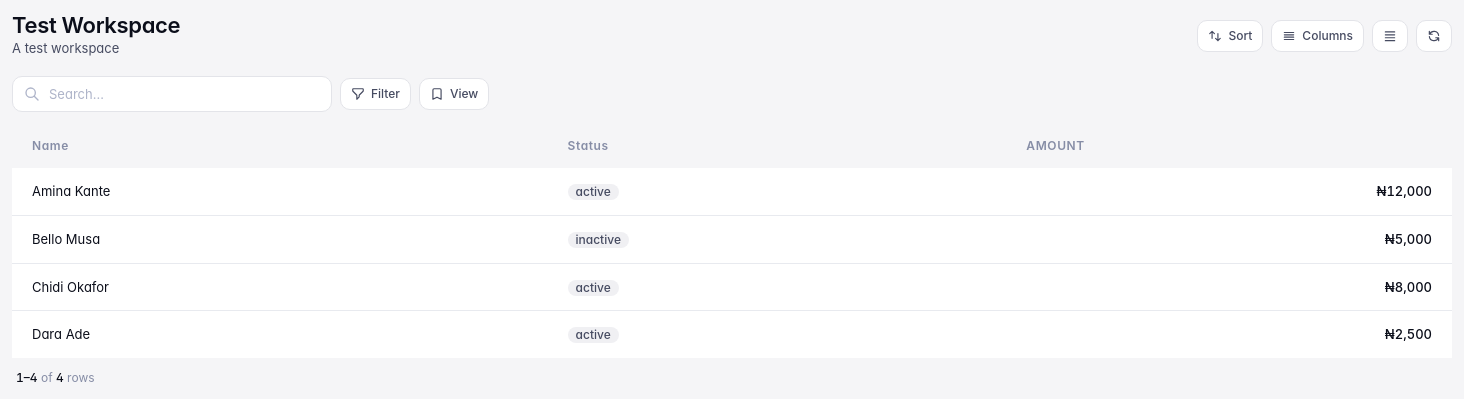
Test case: DataWorkspace — local mode behavior › filters rows from the rail search box
Type "amina" into the search field named "Filter table".
click(172, 94); type("amina")  # box [12, 76, 332, 112]
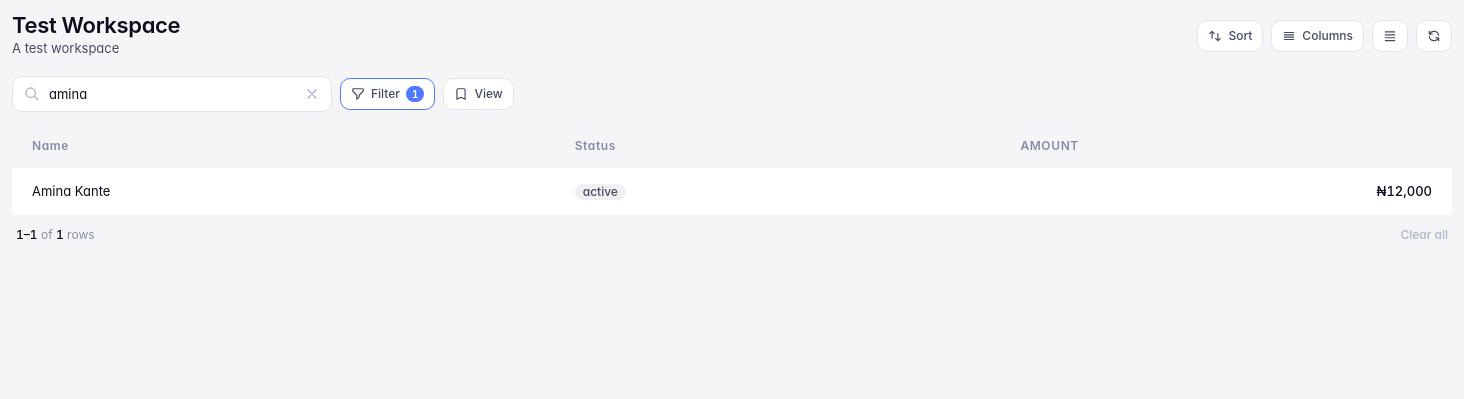
Expected: the text "Amina Kante" is shown, [12, 168, 555, 215]
Expected: the text "Bello Musa" is gone
